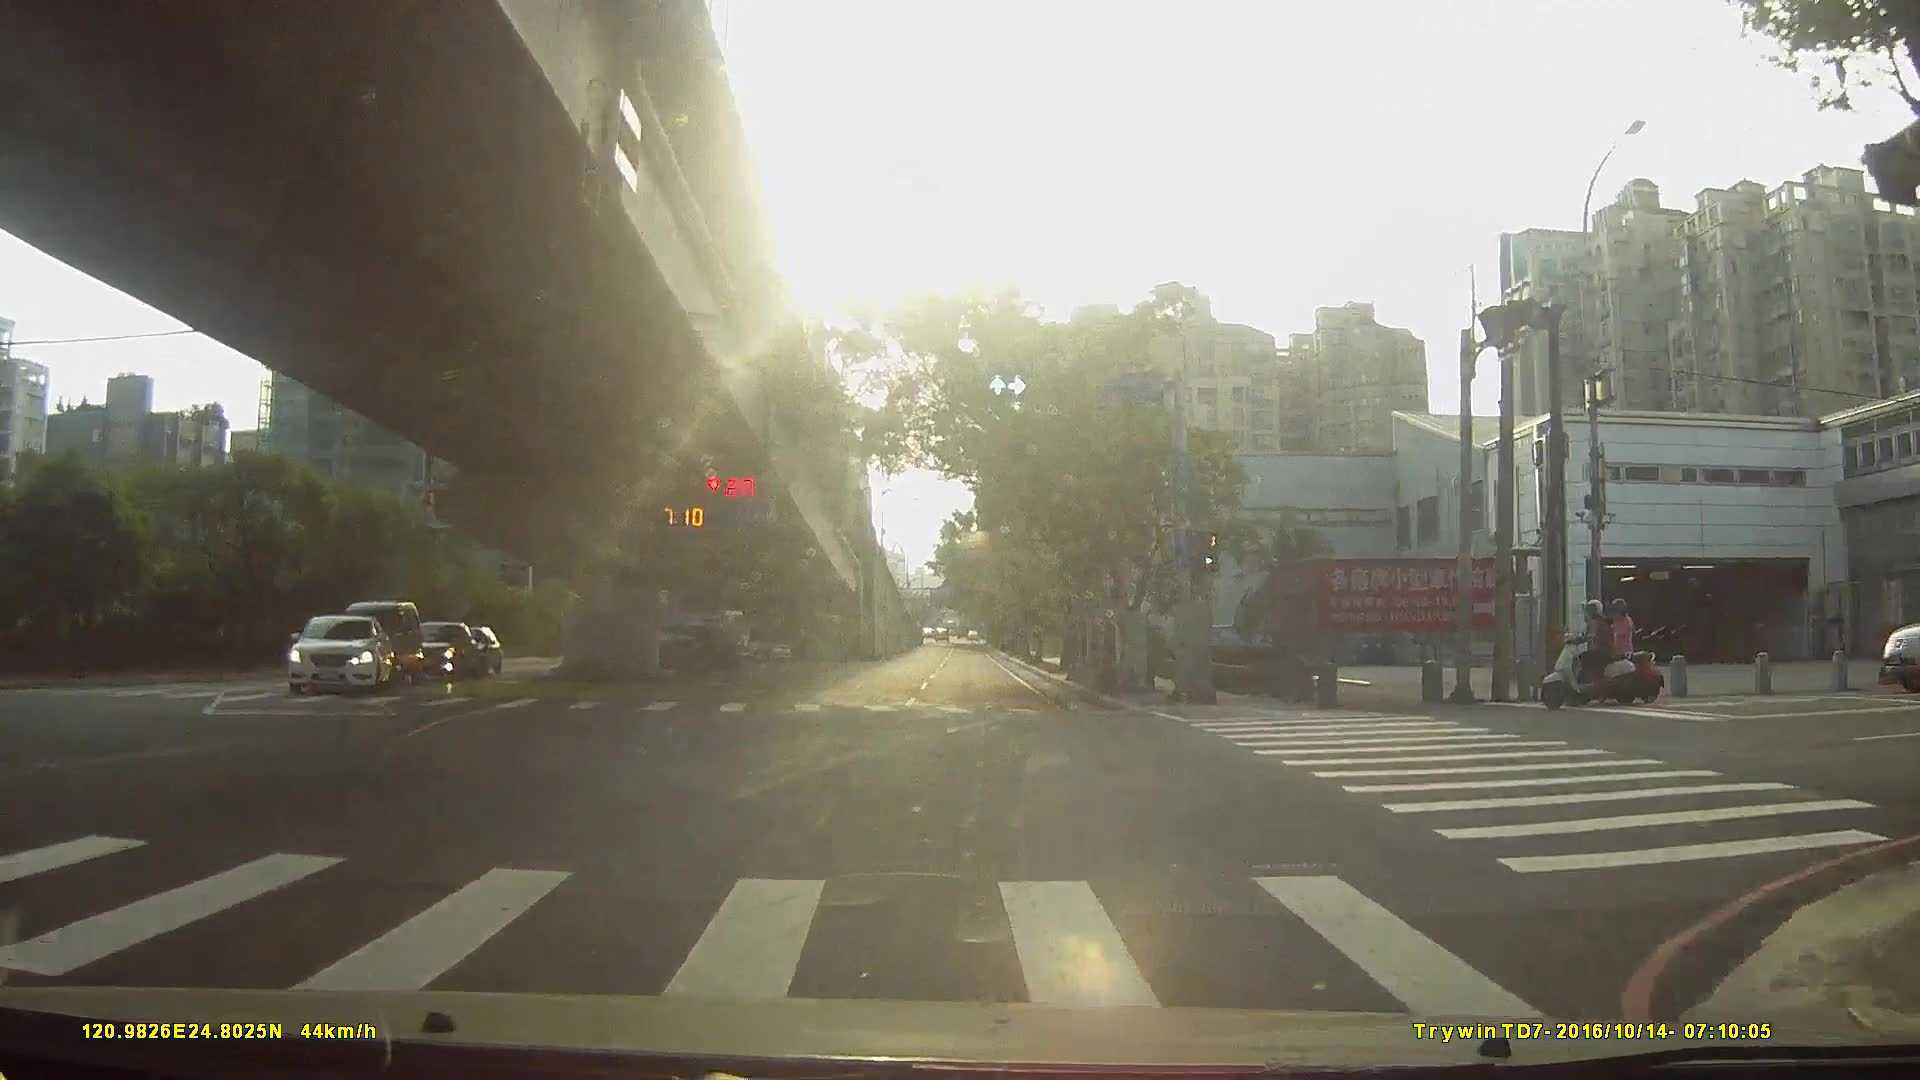rider: (1534, 595, 1640, 705)
vehicle: (275, 613, 388, 697), (332, 597, 415, 687), (626, 620, 747, 679), (395, 616, 479, 683)
